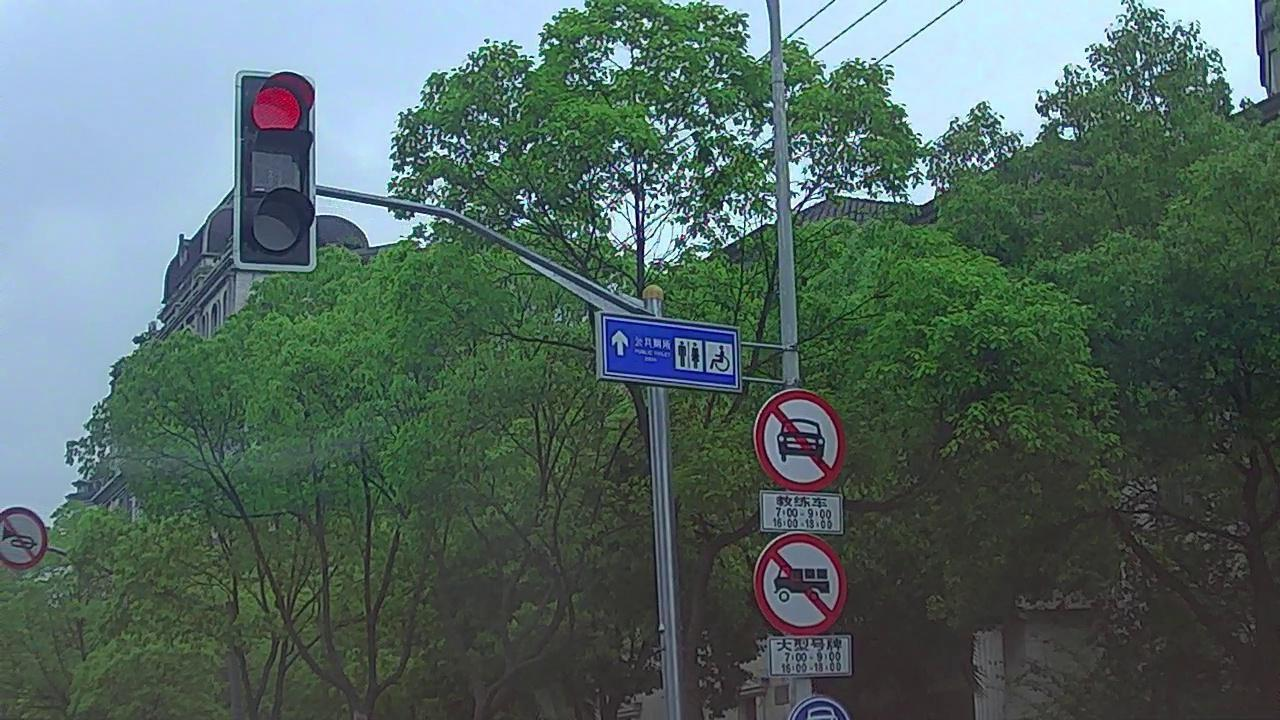traffic_light: (236, 74, 314, 266)
